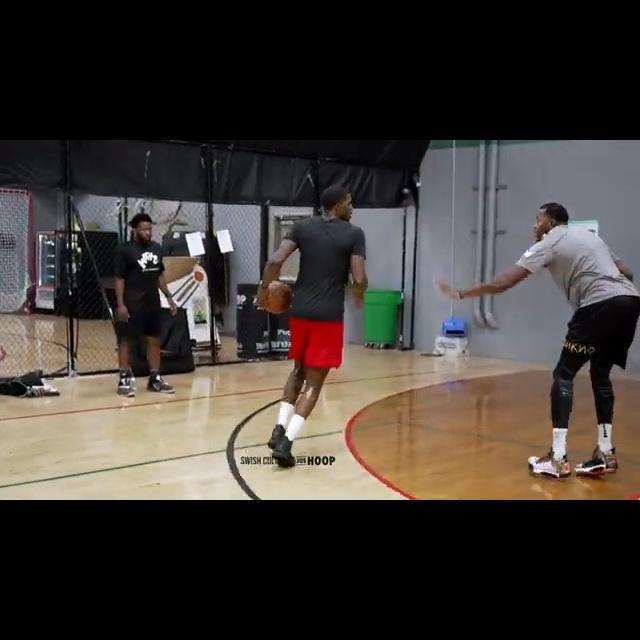basketball: (259, 279, 293, 313)
person: (432, 197, 640, 483), (262, 187, 378, 469), (111, 212, 185, 400)
